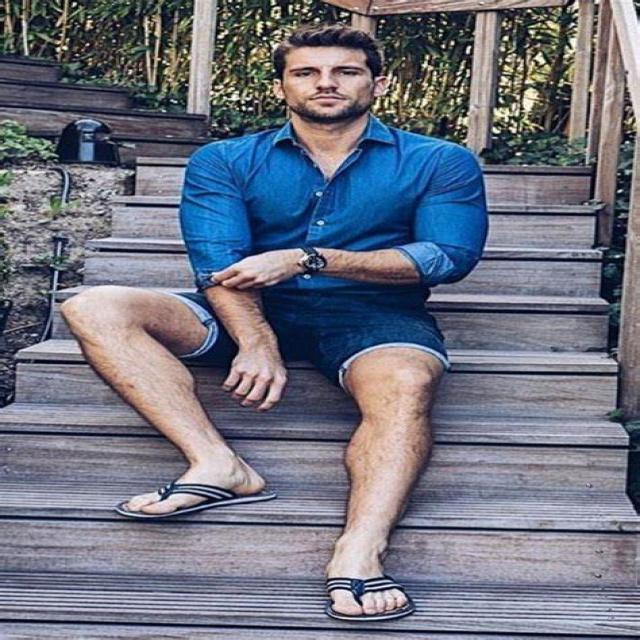No_Goggles: (290, 60, 361, 85)
No_Helmet: (278, 23, 377, 60)
No_Shoe: (117, 450, 271, 525), (320, 551, 415, 626), (216, 328, 293, 412)
